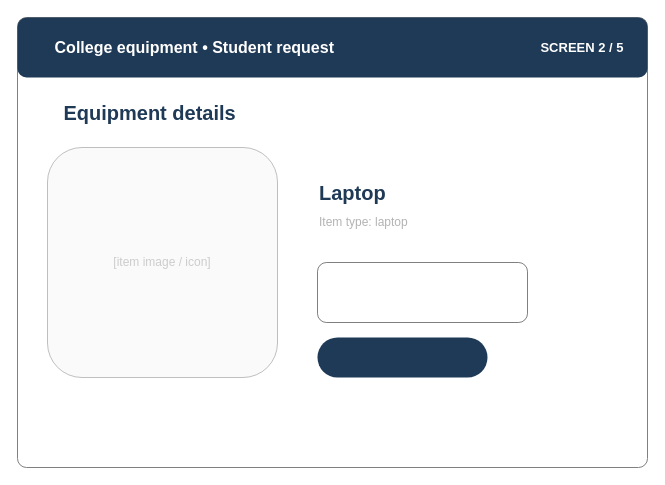
Image size: 665x485. Some labels were removed from this diagram. Here are the shapes that lost their labels. From the top down, the centre of each, then its label:
At point 422,292: "Exact item and date availability: to be confirmed".
At point 402,357: "Request this equipment".
